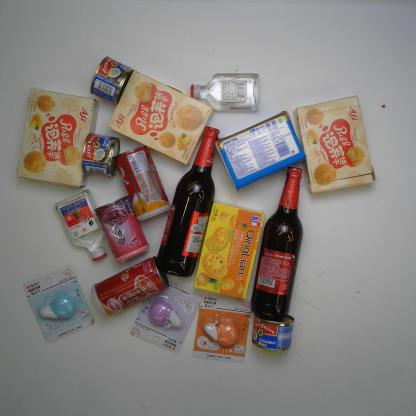Alcohol: (155, 126, 220, 278), (250, 165, 302, 318), (55, 190, 106, 262), (190, 73, 260, 112)
Canned Food: (91, 257, 168, 318), (114, 146, 170, 223), (95, 195, 150, 262), (90, 57, 133, 106), (81, 132, 120, 177), (250, 313, 294, 351)
Dessert: (108, 70, 213, 164), (16, 88, 99, 190), (297, 96, 375, 193), (193, 202, 264, 299)
Stationery: (131, 270, 202, 352), (23, 266, 94, 341), (192, 291, 252, 363)
Tissue: (215, 110, 307, 190)
